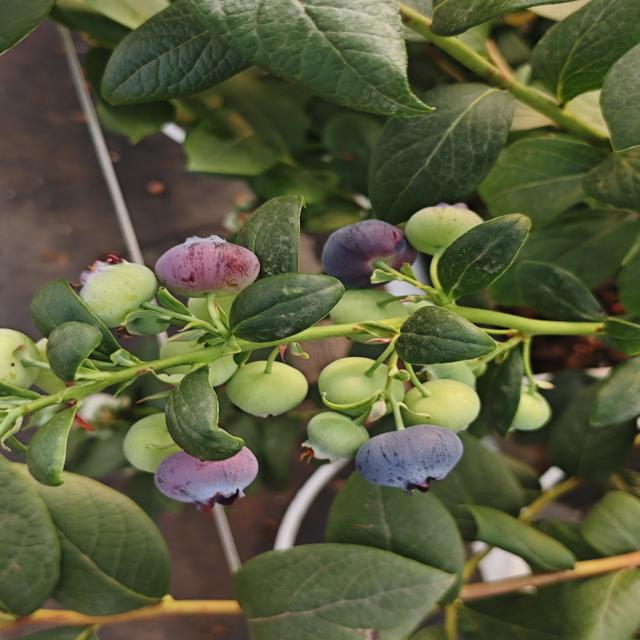ripe: (311, 217, 422, 293), (359, 412, 470, 488), (150, 454, 264, 506)
